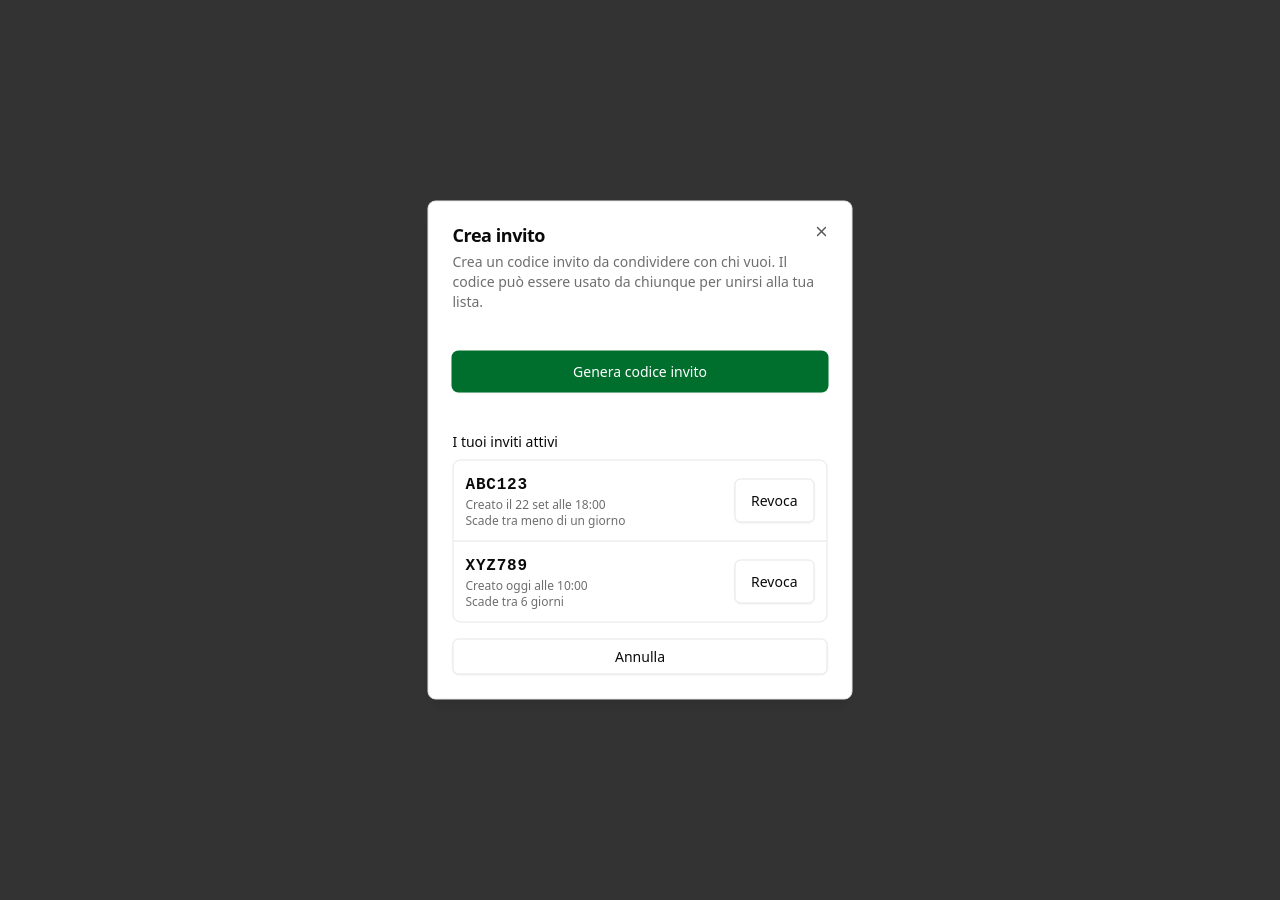
Test case: InviteDialog — i propri inviti attivi (#194) › «Revoca» chiede conferma, e dopo la conferma l'invito sparisce
Click the button with aria-label "Revoca l'invito ABC123" at (774, 500), box [734, 478, 814, 522]
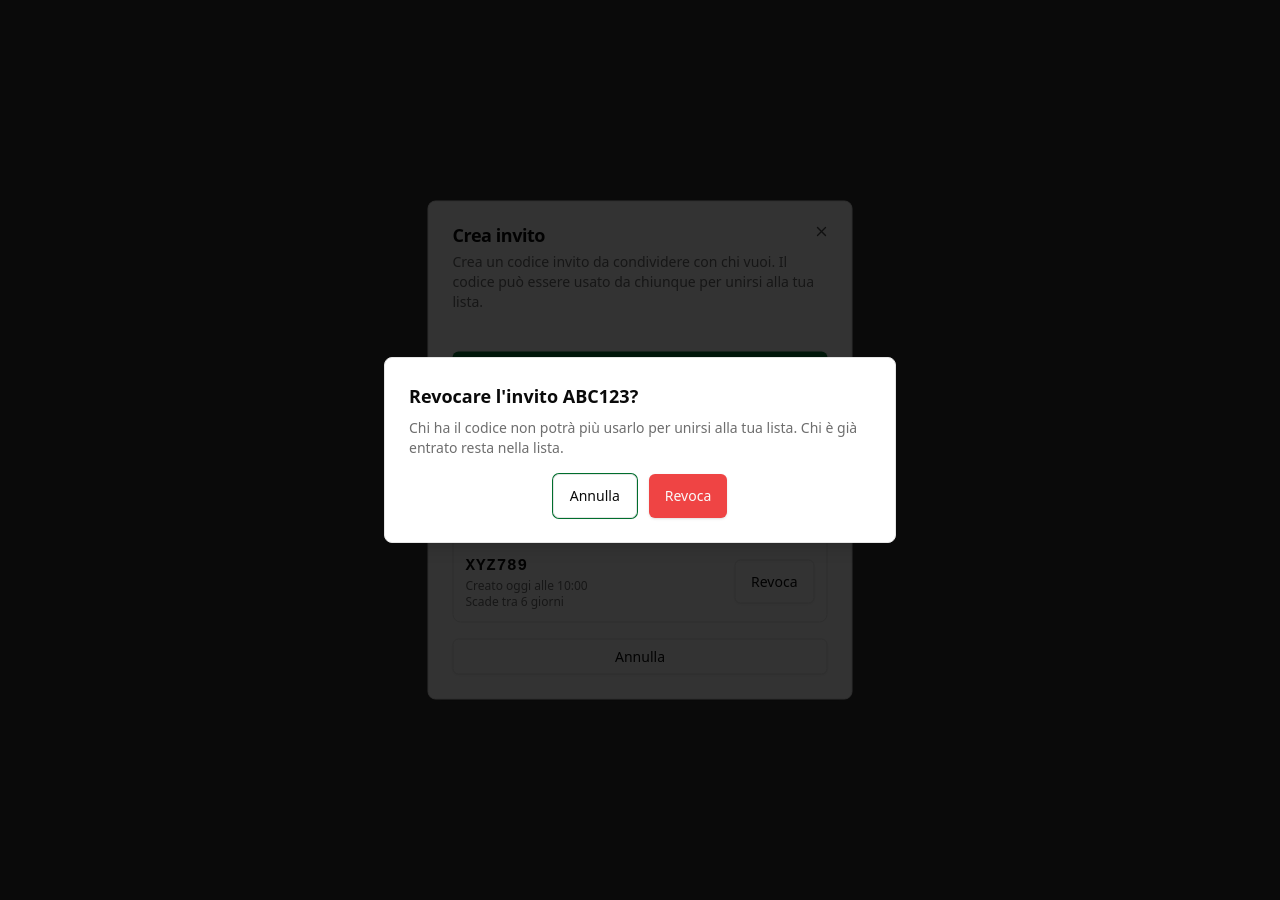
expect the heading "Revocare l'invito ABC123?" is shown: met, box [409, 384, 638, 408]
Click the button "Revoca" at (688, 496), box [649, 474, 727, 518]
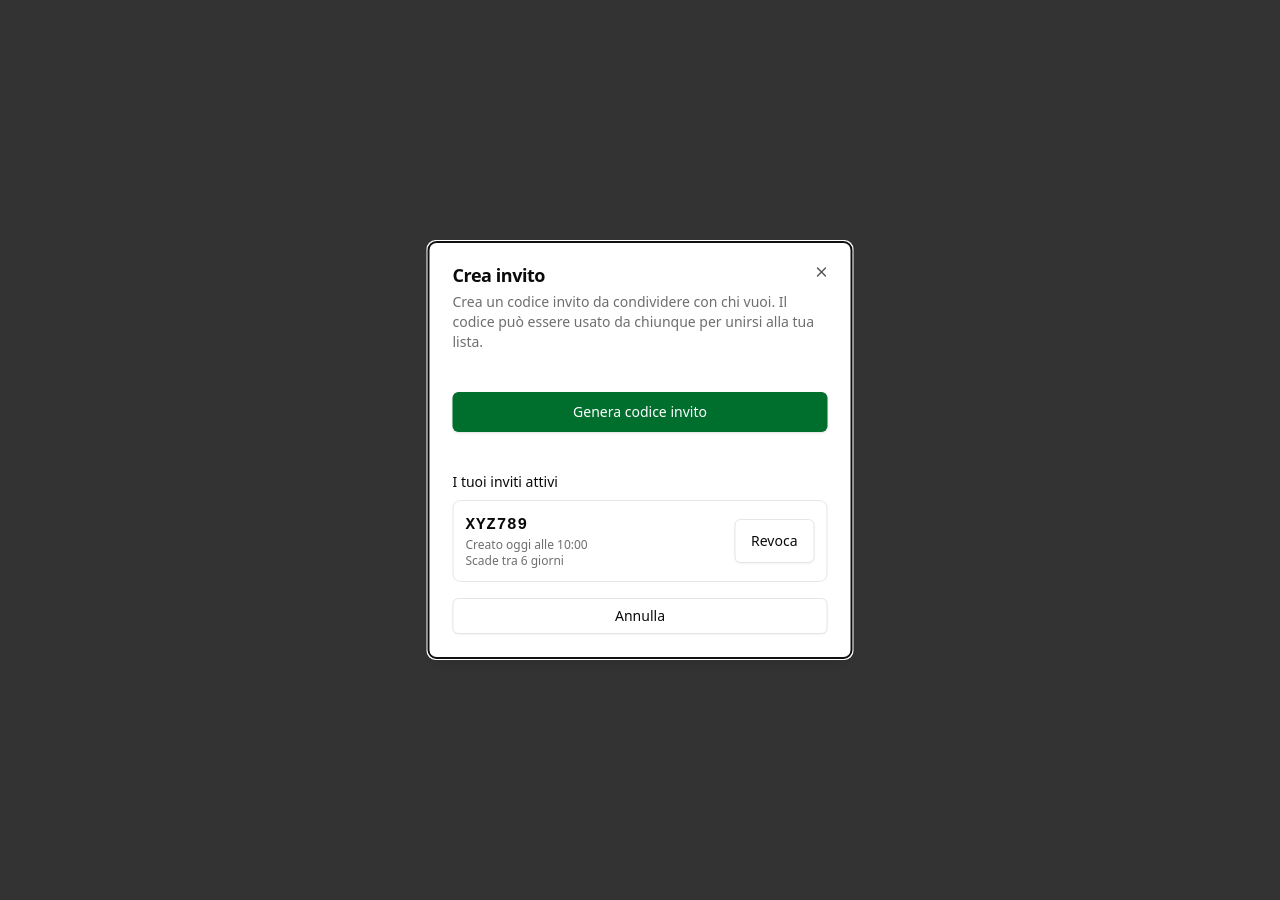
expect the text "XYZ789" is shown: met, box [466, 516, 528, 534]
expect the text "ABC123" is gone: met
